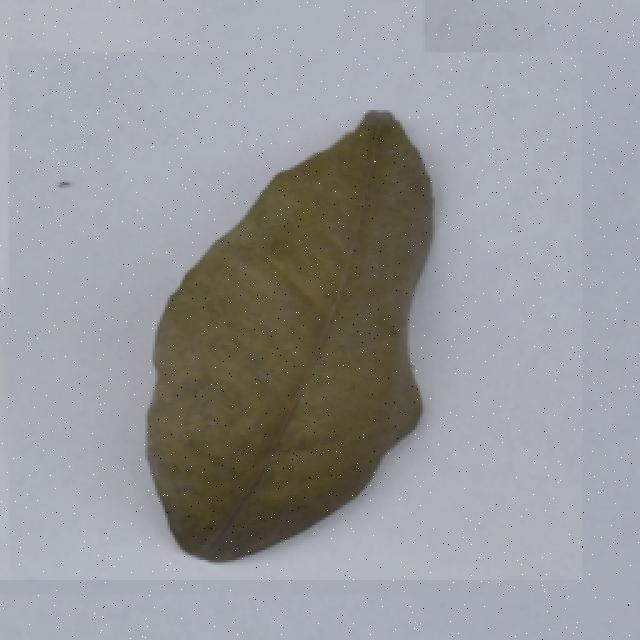greening: (86, 99, 475, 579)
